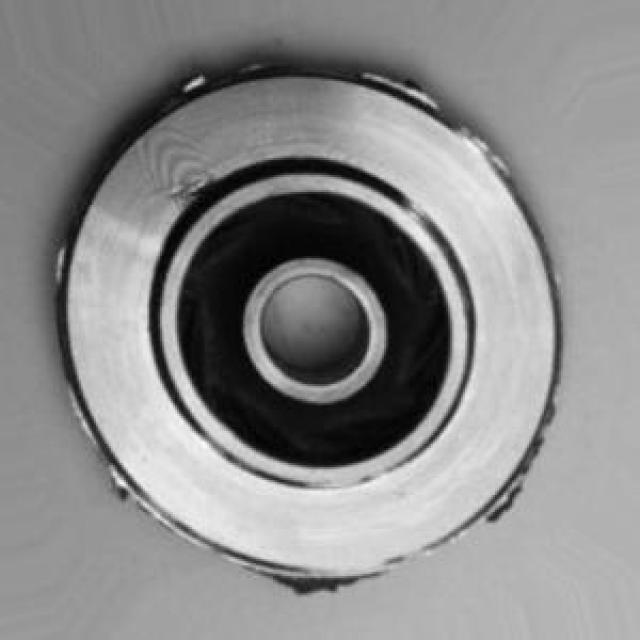Defect: (103, 458, 136, 512)
